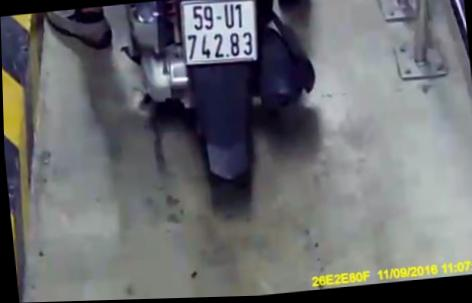LP: (177, 0, 260, 69)
